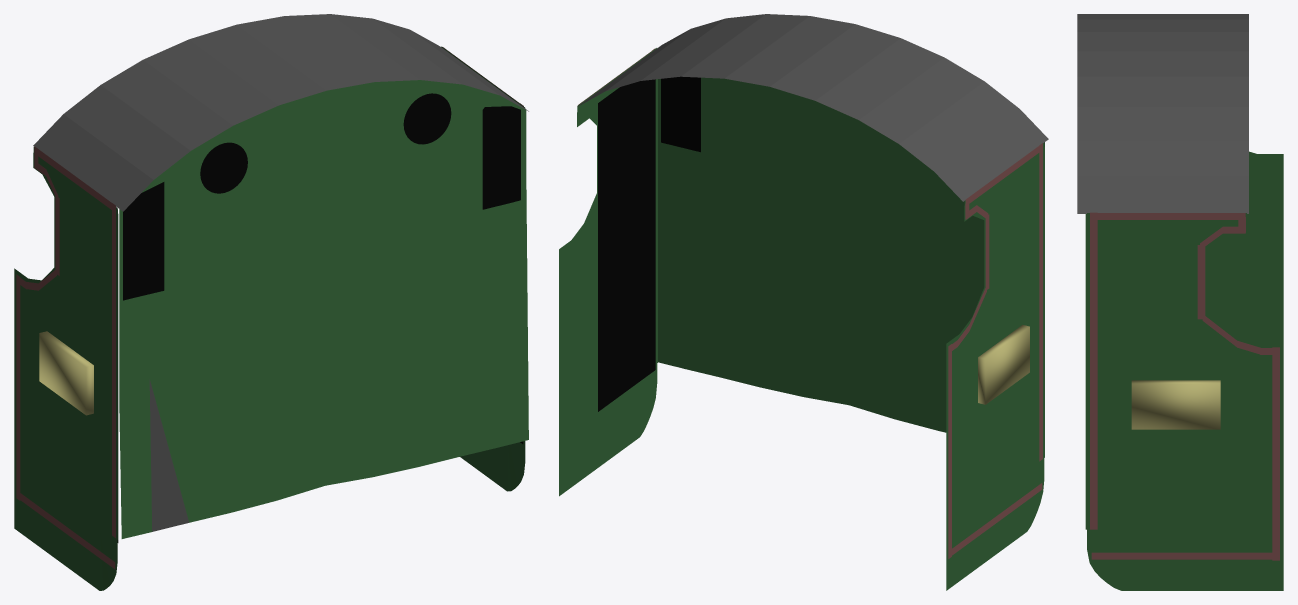
Rendered from gwr-churchward-cab.dae.
3 views of the same model, side by side, from view 1: azimuth 30°, elevation 25°; view 2: azimuth 150°, elevation 25°; view 3: azimuth 270°, elevation 25° (orthographic). The views are drawn at different scales.
Visible parts, largest first — view 1: Tube, Plane_002, Plane_004, Plane_003, Cube_019, Plane, Cylinder_028, Cylinder_029, Plane_028, Plane_027, Plane_026; view 2: Tube, Plane_002, Plane_005, Plane, Plane_003, Cube_019, Plane_028, Plane_027, Plane_026; view 3: Plane, Tube, Plane_002, Cube_018, Plane_007, Plane_008, Plane_009, Plane_010, Plane_014.
Boxes of the visible parts, <box> form: Tube: <box>33,14,528,538</box>; Plane_002: <box>14,147,118,590</box>; Plane_004: <box>123,182,164,300</box>; Plane_003: <box>482,106,520,209</box>; Cube_019: <box>39,331,93,415</box>; Plane: <box>441,46,525,491</box>; Cylinder_028: <box>403,93,451,144</box>; Cylinder_029: <box>200,142,247,193</box>; Plane_028: <box>112,203,115,538</box>; Plane_027: <box>16,274,20,500</box>; Plane_026: <box>20,493,115,569</box>; Tube: <box>577,14,1048,432</box>; Plane_002: <box>946,143,1044,590</box>; Plane_005: <box>598,79,655,411</box>; Plane: <box>559,48,657,496</box>; Plane_003: <box>661,76,700,152</box>; Cube_019: <box>978,325,1029,404</box>; Plane_028: <box>1039,143,1042,461</box>; Plane_027: <box>948,344,951,558</box>; Plane_026: <box>952,483,1042,555</box>; Plane: <box>1085,213,1283,590</box>; Tube: <box>1077,14,1248,213</box>; Plane_002: <box>1085,151,1283,343</box>; Cube_018: <box>1131,380,1220,429</box>; Plane_007: <box>1090,212,1097,529</box>; Plane_008: <box>1272,347,1279,560</box>; Plane_009: <box>1091,552,1272,559</box>; Plane_010: <box>1091,213,1245,219</box>; Plane_014: <box>1197,245,1205,319</box>.
Size of the model in its own units: 1.79 by 0.7919 by 1.88.
